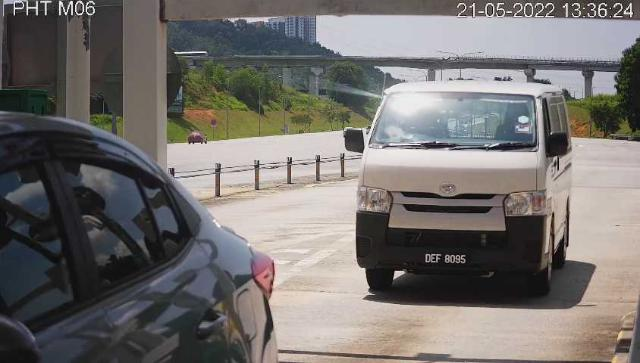License_Plate: (422, 249, 470, 271)
van: (357, 84, 573, 297)
